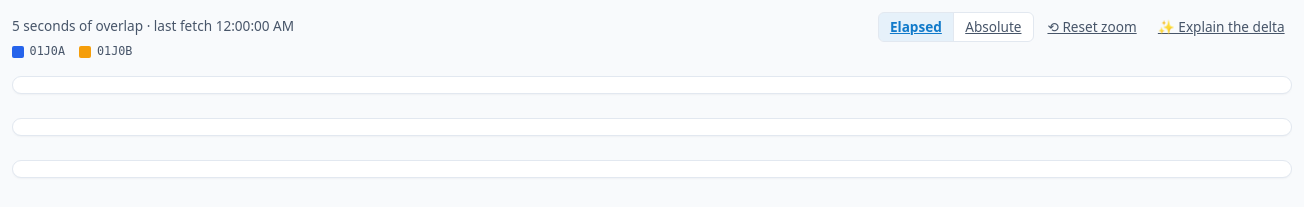
TwoRunMetricsPanel — Explain the delta toggle › opens the side column on click and auto-generates when both runs have data
Step 1. Click the button "✨ Explain the delta" → x=1221, y=27, box [1150, 12, 1292, 42]
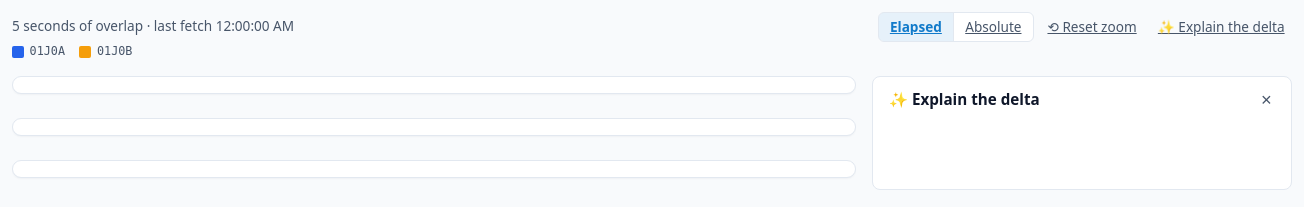
Result: the button named "close ai comparison insights" is shown at [1258, 90, 1275, 109]
